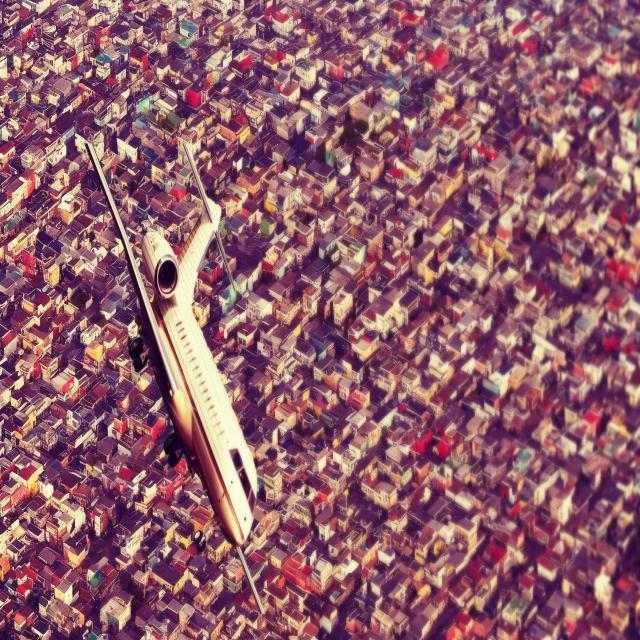airplane: (82, 133, 259, 548)
